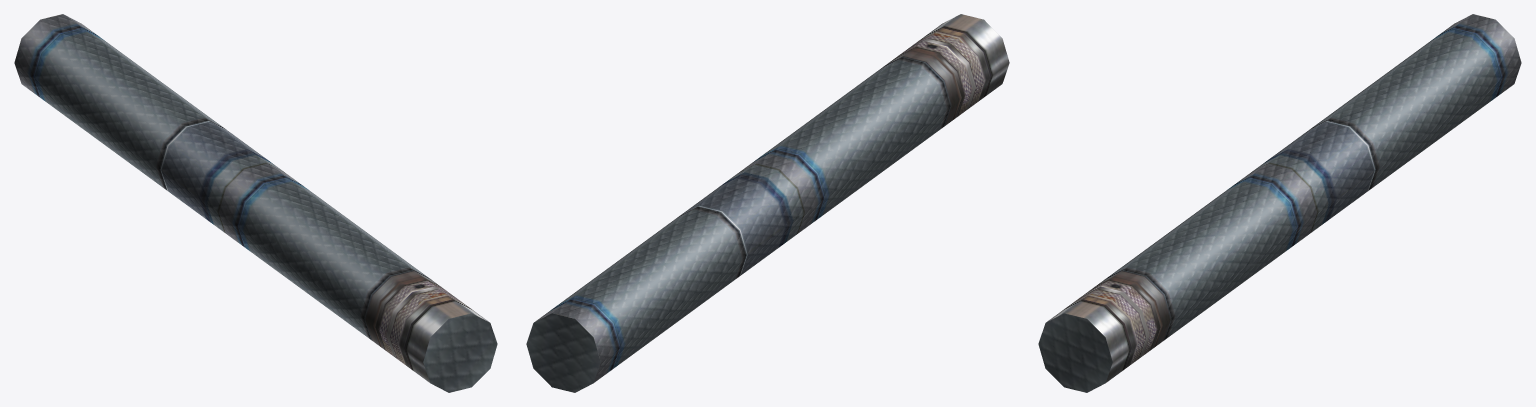
The model's file is SM_Hose1.fbx.
3 views of the same model, side by side, from view 1: azimuth 30°, elevation 25°; view 2: azimuth 150°, elevation 25°; view 3: azimuth 330°, elevation 25° (orthographic).
Parts seen in each view (by area): view 1: SM_Hose1_LOD0; view 2: SM_Hose1_LOD0; view 3: SM_Hose1_LOD0.
Part boxes in pixels (x1=…): SM_Hose1_LOD0: x1=14, y1=14, x2=497, y2=392; SM_Hose1_LOD0: x1=526, y1=14, x2=1009, y2=392; SM_Hose1_LOD0: x1=1038, y1=14, x2=1521, y2=392.
Size of the model in its own units: 10.5 by 100 by 10.
1 material, 1 textured.
